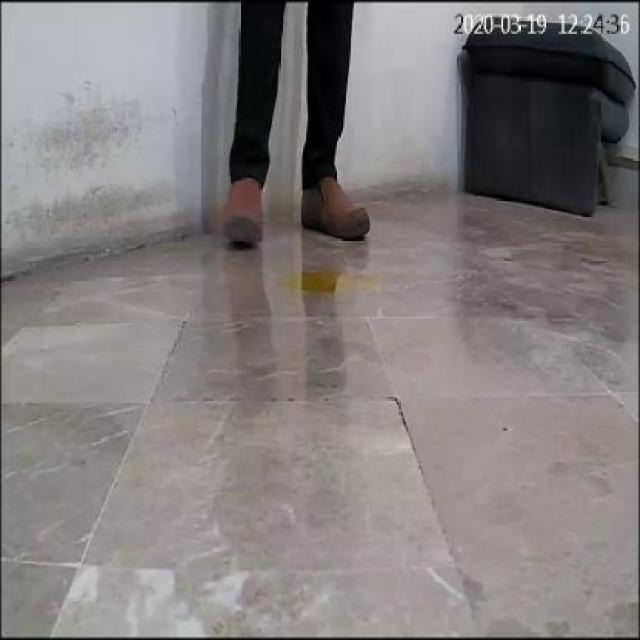spill: (262, 263, 378, 292)
